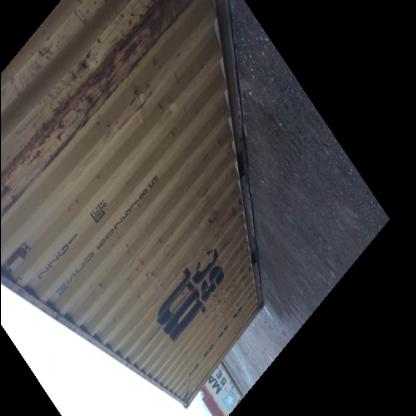Damage: (56, 0, 180, 119), (6, 120, 86, 179), (106, 240, 158, 292), (198, 203, 240, 257), (200, 283, 238, 311)
